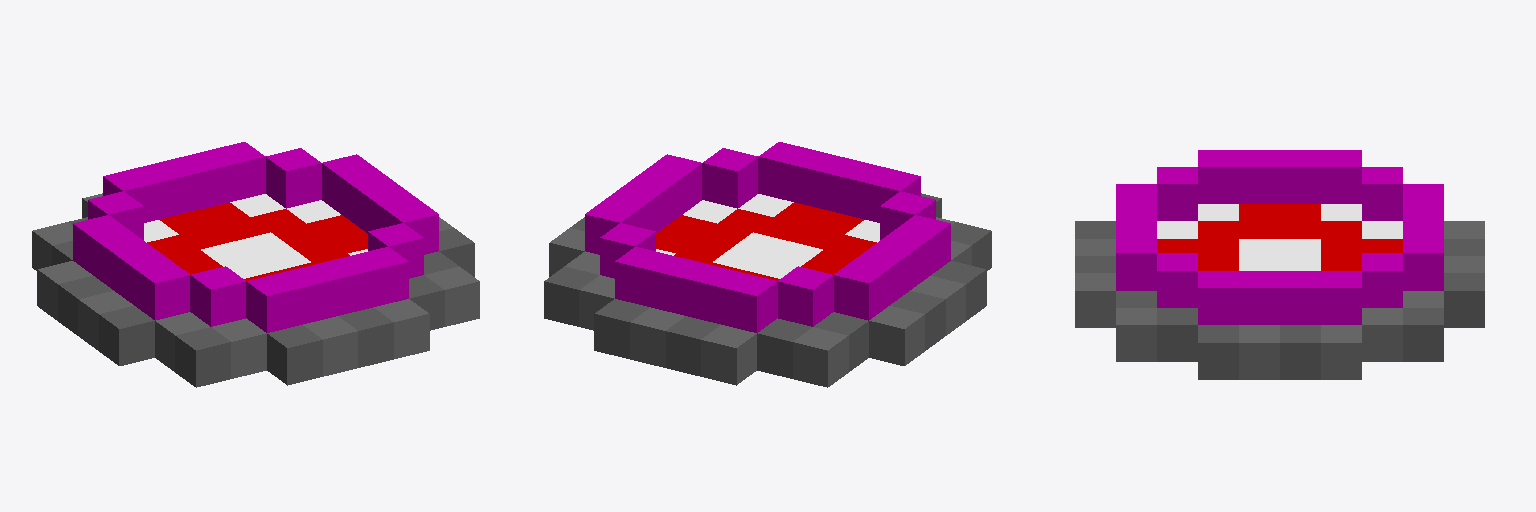
3 renders of one model, left to right at view 1: azimuth 30°, elevation 25°; view 2: azimuth 150°, elevation 25°; view 3: azimuth 270°, elevation 25°, orthographic.
Bounding box in the file's own units: 10 × 2 × 10.
Materials: 1 (1 with a texture image).